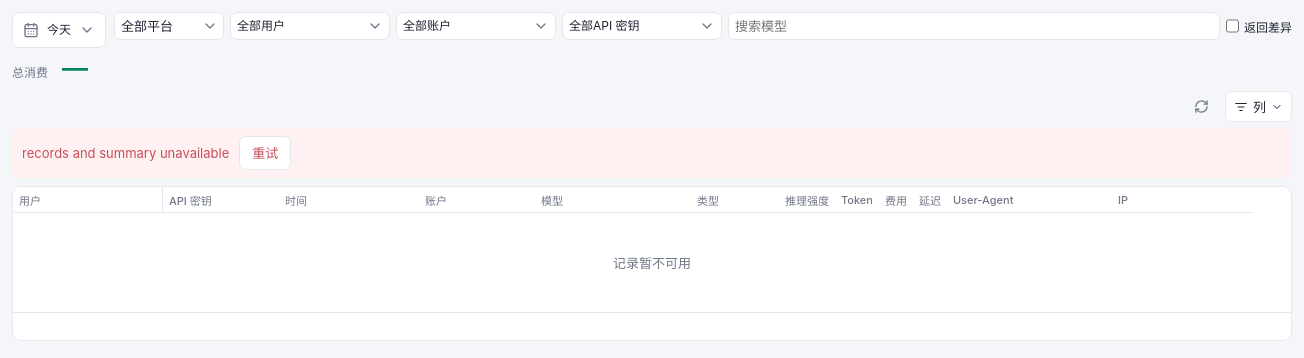
Scenario: record view › shows an unknown total on initial failure and retries the complete list with a genuine zero total
Expected: the text "—" is shown, [62,52,87,83]
Expected: the message "records and summary unavailable 重试" is shown, [12,128,1292,178]
What coordinates should you click on to do the following:
click the button "重试"
I would click on:
 (265, 153)
Its box is [239,136,291,170].
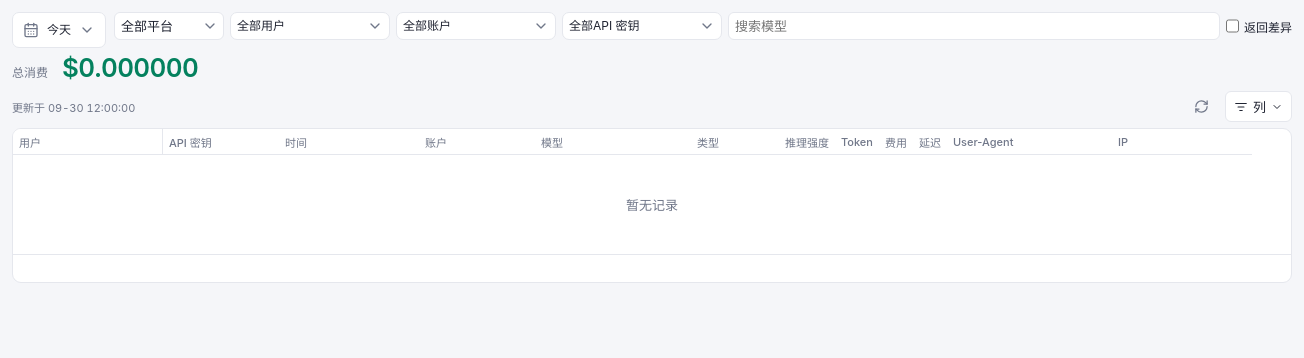
Expected: the text "$0.000000" is shown, [62,52,198,83]
Expected: the message "records and summary unavailable 重试" is gone
